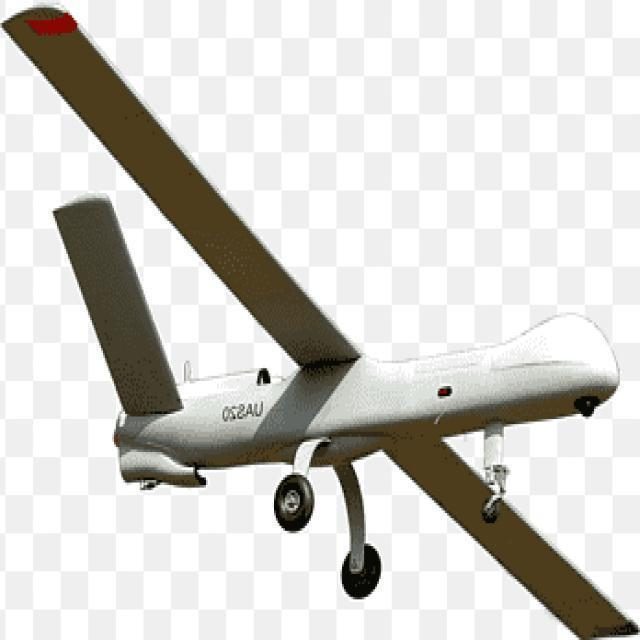iha: (15, 22, 632, 622)
